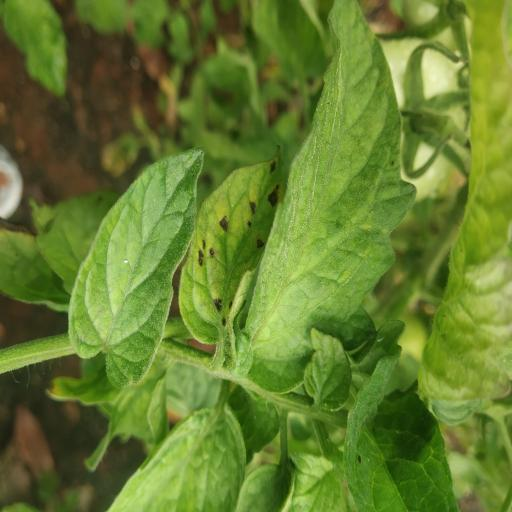Early Blight: (174, 142, 286, 348)
Healthy: (237, 0, 418, 395), (63, 142, 205, 389)
